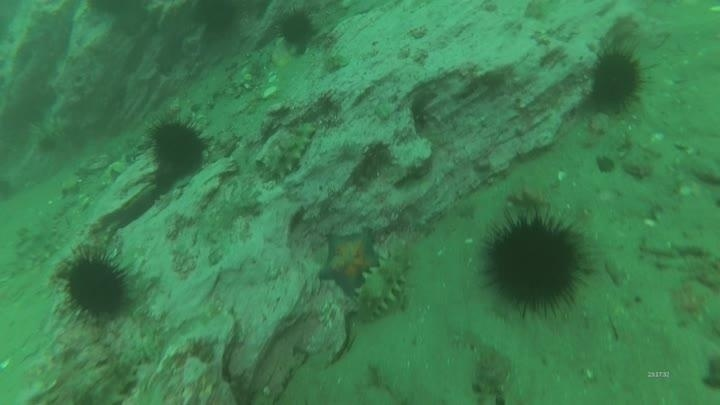echinus: (480, 210, 591, 318), (57, 248, 134, 325), (145, 115, 212, 179), (586, 46, 649, 114), (274, 7, 318, 51), (190, 1, 242, 38)
holothurian: (351, 240, 416, 325), (451, 326, 514, 403), (15, 195, 77, 266), (257, 120, 319, 183)
starfish: (316, 229, 382, 295)
